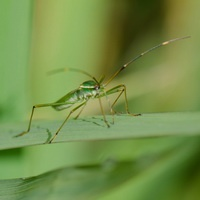insect: (14, 36, 190, 142)
